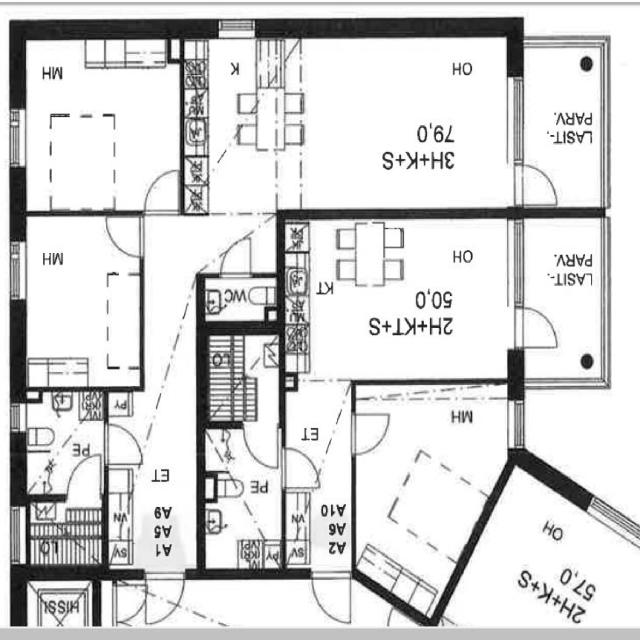door: (200, 268, 281, 328), (305, 564, 356, 629), (508, 301, 564, 358), (140, 567, 188, 628), (503, 160, 564, 206), (346, 404, 396, 459), (277, 441, 323, 496), (99, 419, 145, 472), (110, 573, 150, 630), (140, 165, 182, 219), (239, 423, 283, 473), (62, 454, 106, 502), (101, 212, 145, 260), (215, 231, 257, 279)
window: (504, 70, 532, 168), (504, 215, 531, 311), (584, 488, 629, 544), (6, 234, 31, 309), (503, 391, 530, 460), (6, 104, 30, 176), (7, 502, 28, 566), (213, 16, 261, 40), (7, 398, 28, 440)
zone: (270, 35, 517, 209), (284, 219, 520, 382), (355, 382, 493, 615), (26, 41, 183, 214), (18, 212, 144, 392), (182, 34, 290, 215), (16, 38, 180, 120), (202, 428, 286, 574), (24, 389, 106, 497), (202, 330, 282, 424), (50, 113, 116, 210), (27, 497, 104, 566), (198, 275, 282, 328)
